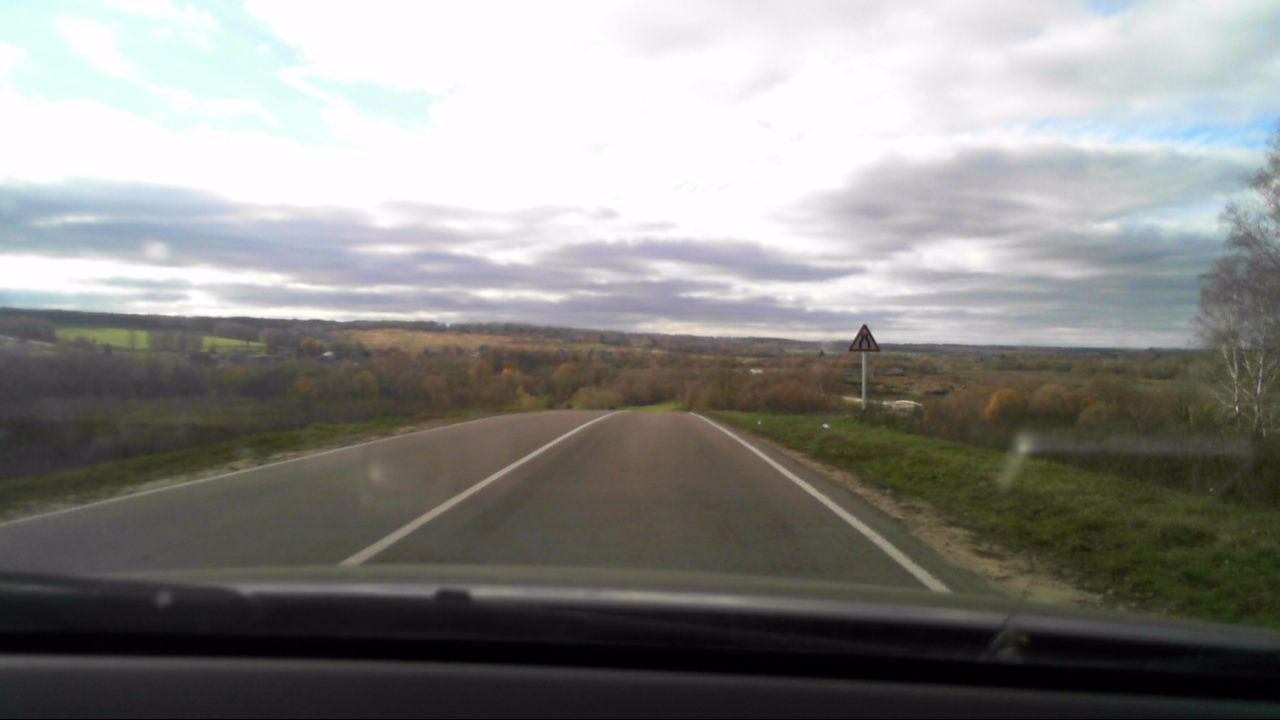1_20_1: (847, 323, 880, 353)
